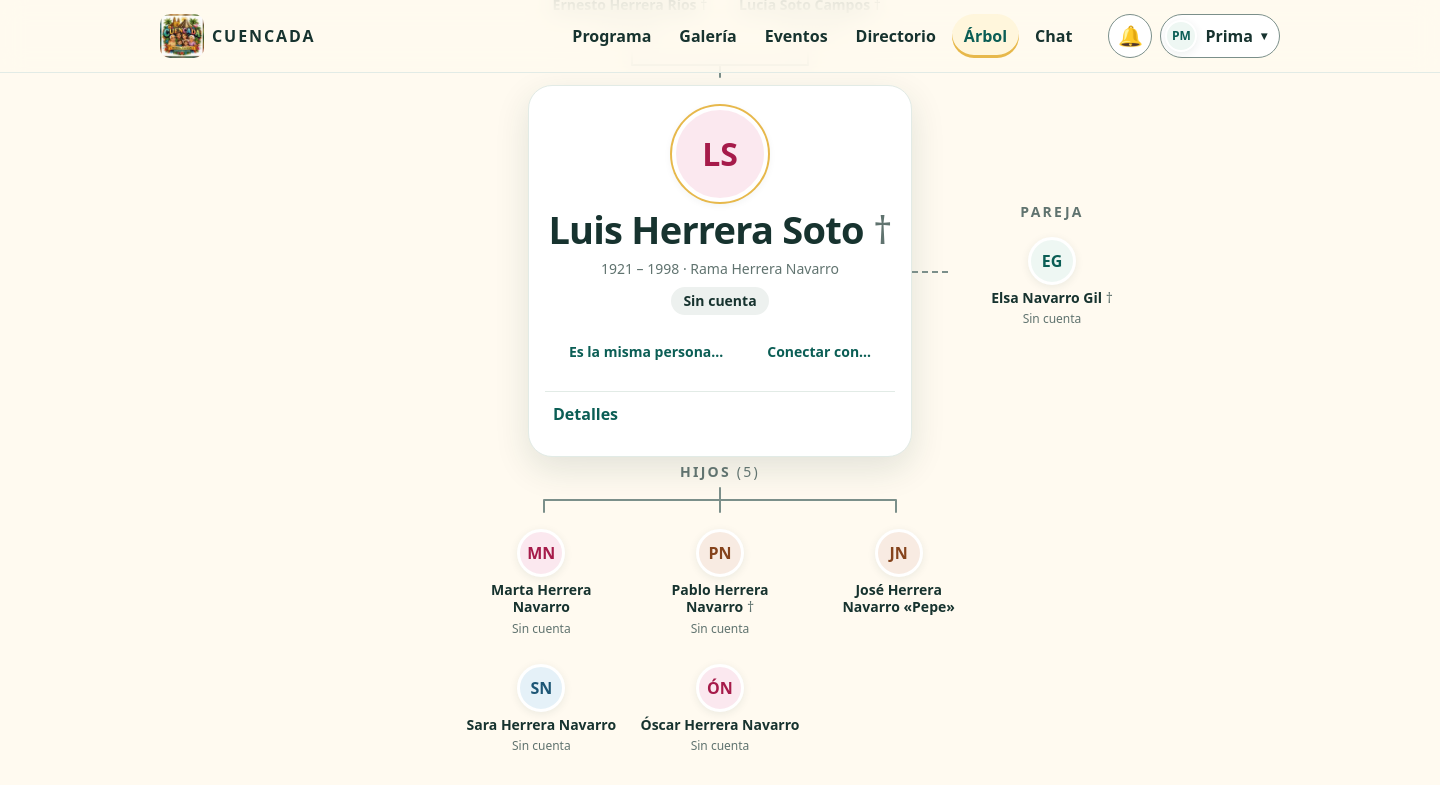
Test case: Detalles accordion › shows dates, birthplace and bio when the server sends them, and no photo or contacts slots when absent
This screenshot has width=1440, height=785.
(page scrolled)
Click the heading "Detalles": click(586, 414) [553, 403, 618, 425]
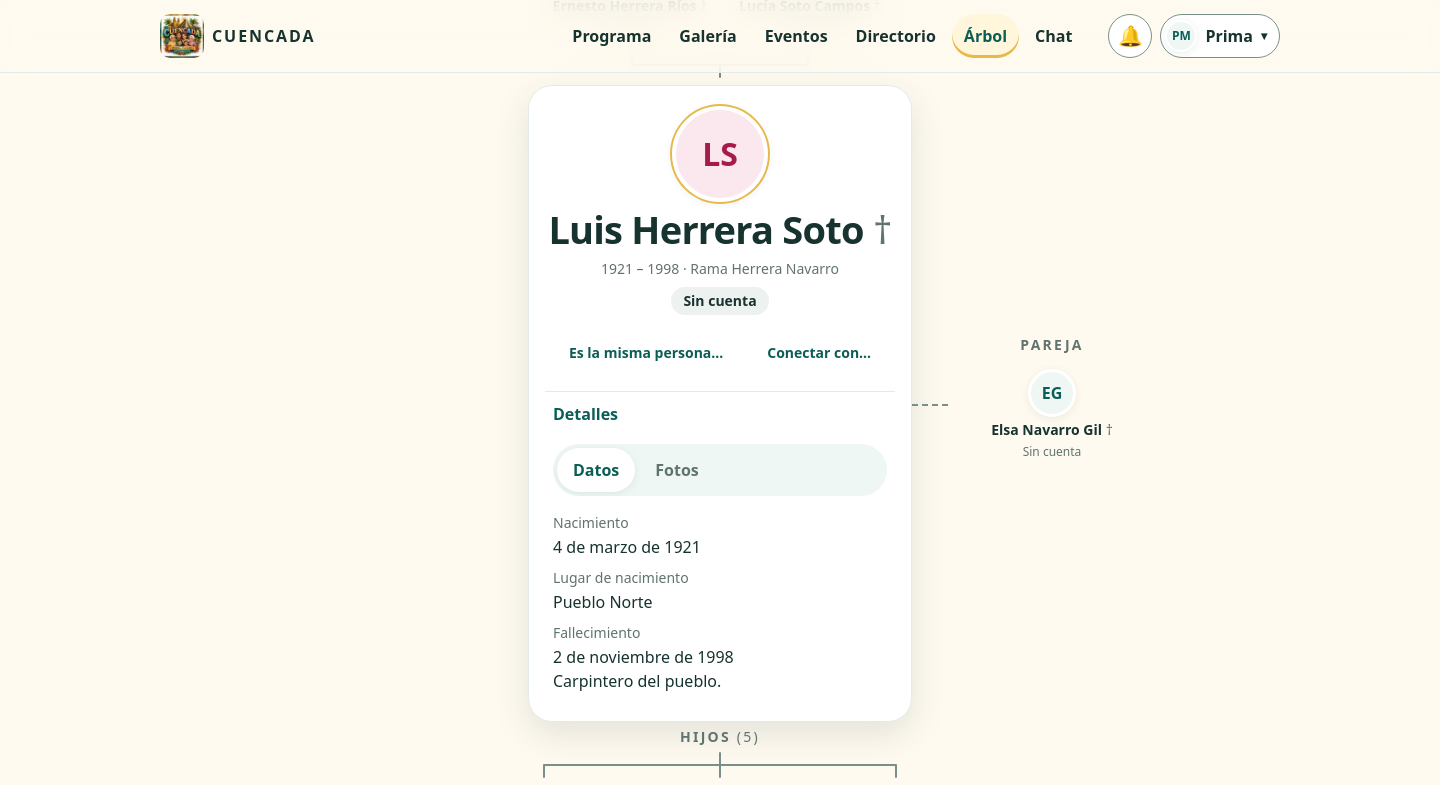
Result: the text "4 de marzo de 1921" is shown at [553, 536, 701, 558]
Result: the text "2 de noviembre de 1998" is shown at [553, 646, 734, 668]
Result: the text "Pueblo Norte" is shown at [553, 591, 653, 613]
